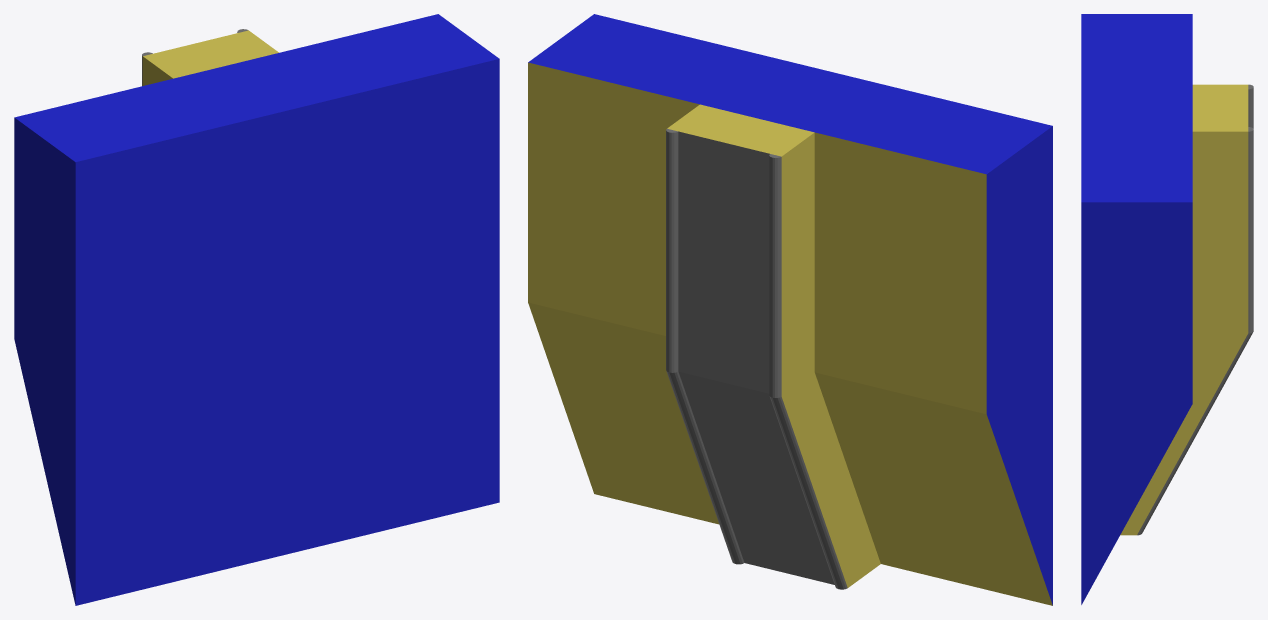
Rendered from Box (Half) W Box-Rail Middle.fbx.
3 views of the same model, side by side, from view 1: azimuth 30°, elevation 25°; view 2: azimuth 150°, elevation 25°; view 3: azimuth 270°, elevation 25° (orthographic). The views are drawn at different scales.
Visible parts, largest first — view 1: Box (Half) W Box-Rail Middle; view 2: Box (Half) W Box-Rail Middle; view 3: Box (Half) W Box-Rail Middle.
Part boxes in pixels (left/top/right/bottom): Box (Half) W Box-Rail Middle: left=14, top=14, right=499, bottom=605; Box (Half) W Box-Rail Middle: left=528, top=14, right=1052, bottom=605; Box (Half) W Box-Rail Middle: left=1081, top=14, right=1253, bottom=604.
Size of the model in its own units: 800 by 800 by 310.
